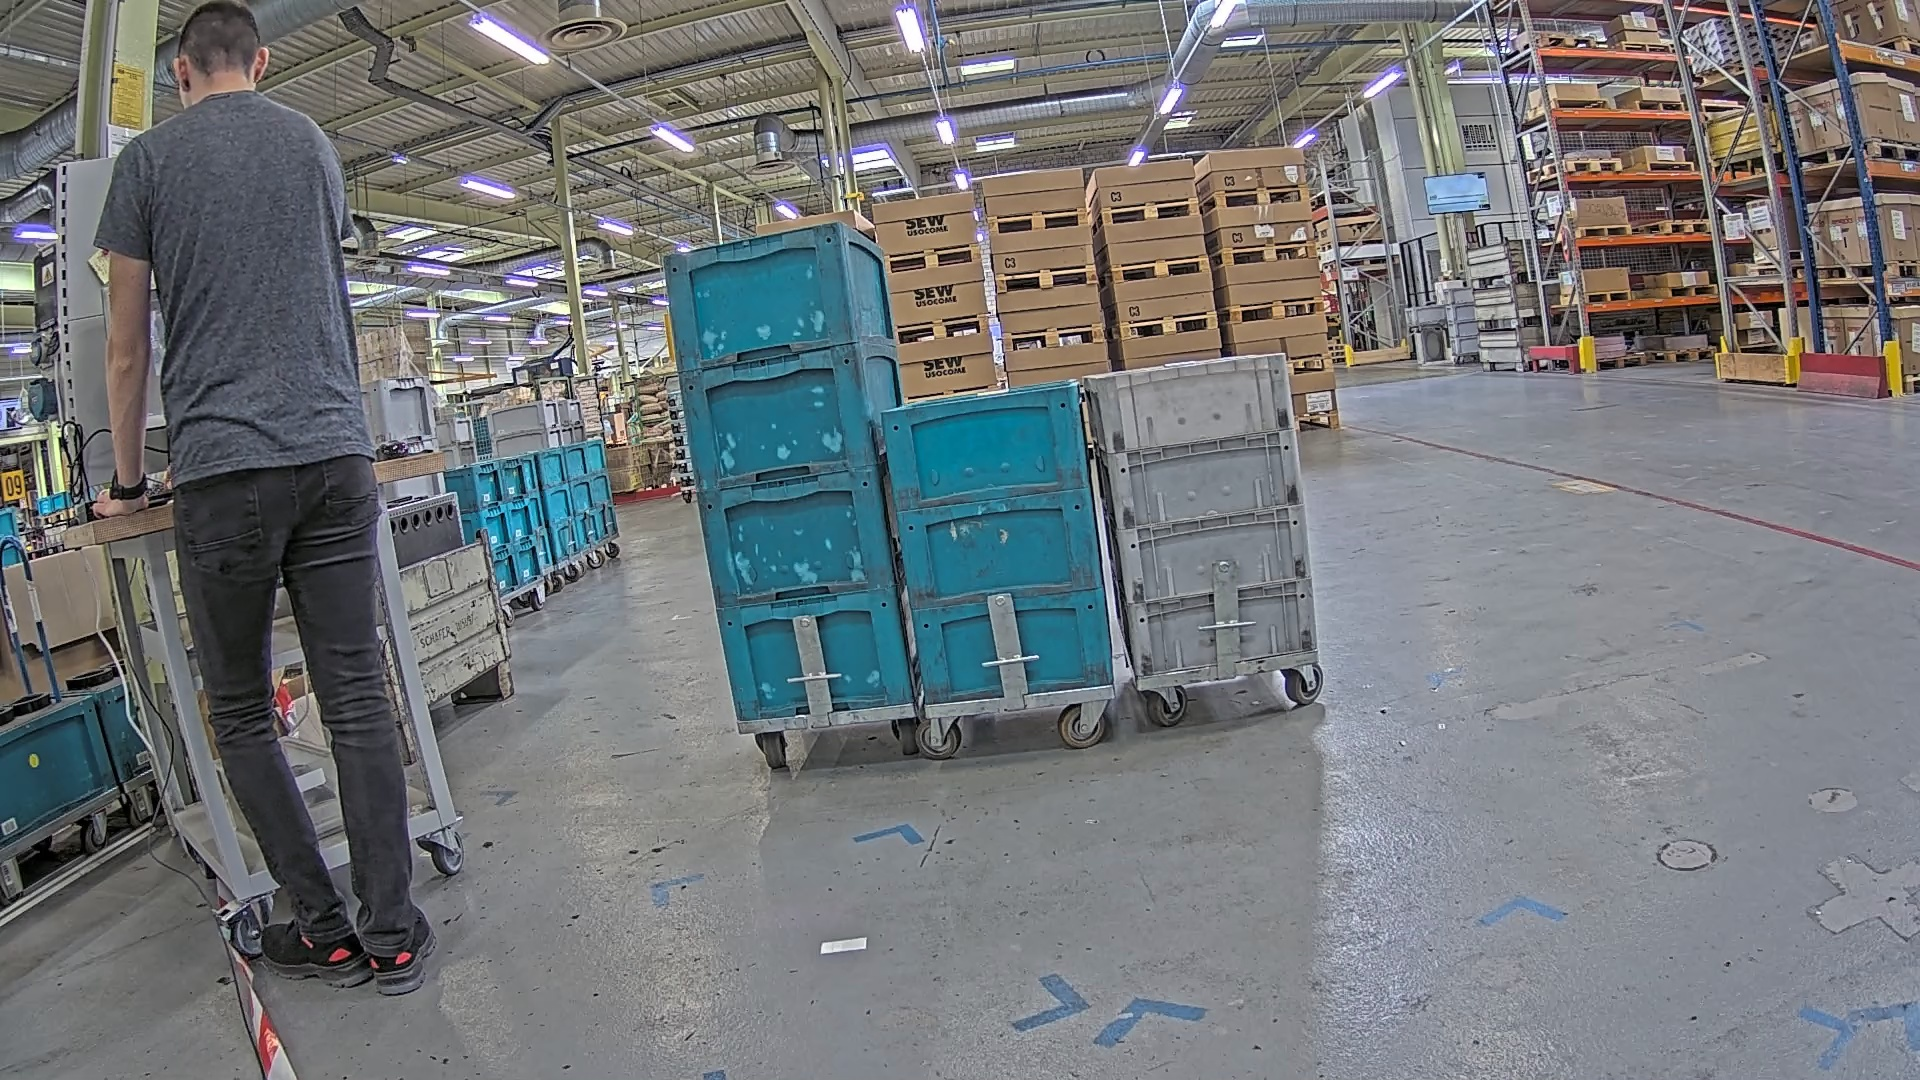4G: (655, 222, 930, 725)
8G: (1087, 351, 1320, 679)
B8: (878, 382, 1117, 705)
